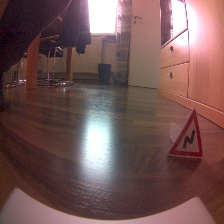vorsicht: (166, 99, 207, 161)
